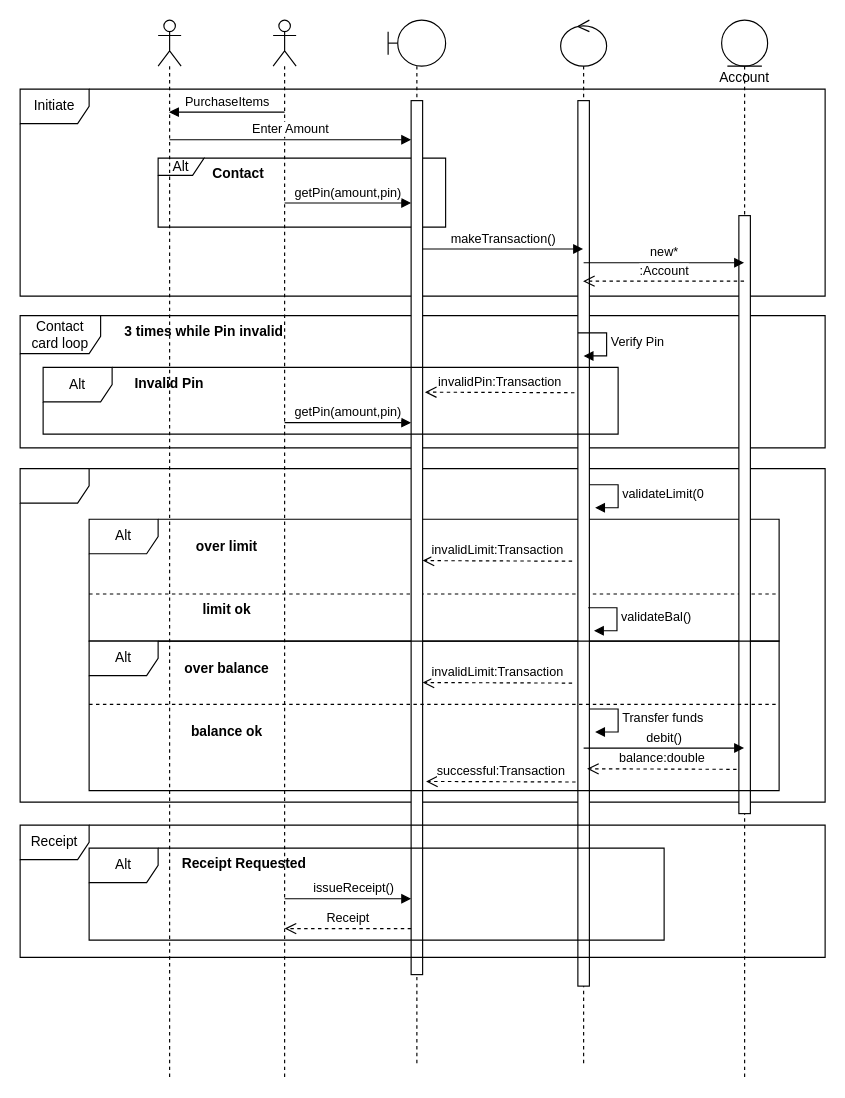
Some shapes in this 845 by 1098 pixel diagram are drawn without their labels. The shapes that lost their labels are listed below. From the top down, each one's box as (x1, y1, x2, y2) in pixels, then its label:
(157, 19, 181, 1078): Merchant
(272, 19, 296, 1078): Customer
(387, 19, 446, 1067): POS
(559, 19, 607, 1067): Bank
(19, 467, 825, 802): Validate
